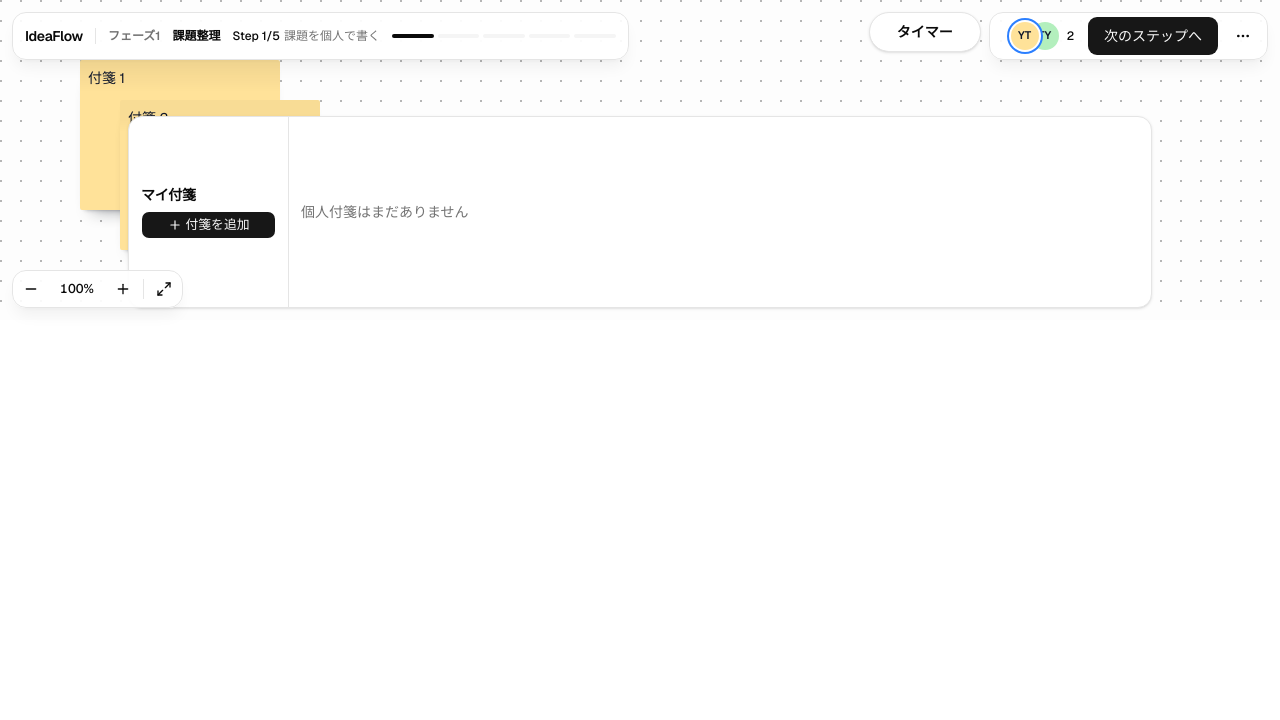
Test case: RoomBoardView › host の招待URLと招待コードはルームメニューから表示する
expect the text "招待URL" is not shown: met
Click the button named "ルームメニューを開く" at (1243, 36), box [1223,16,1263,56]
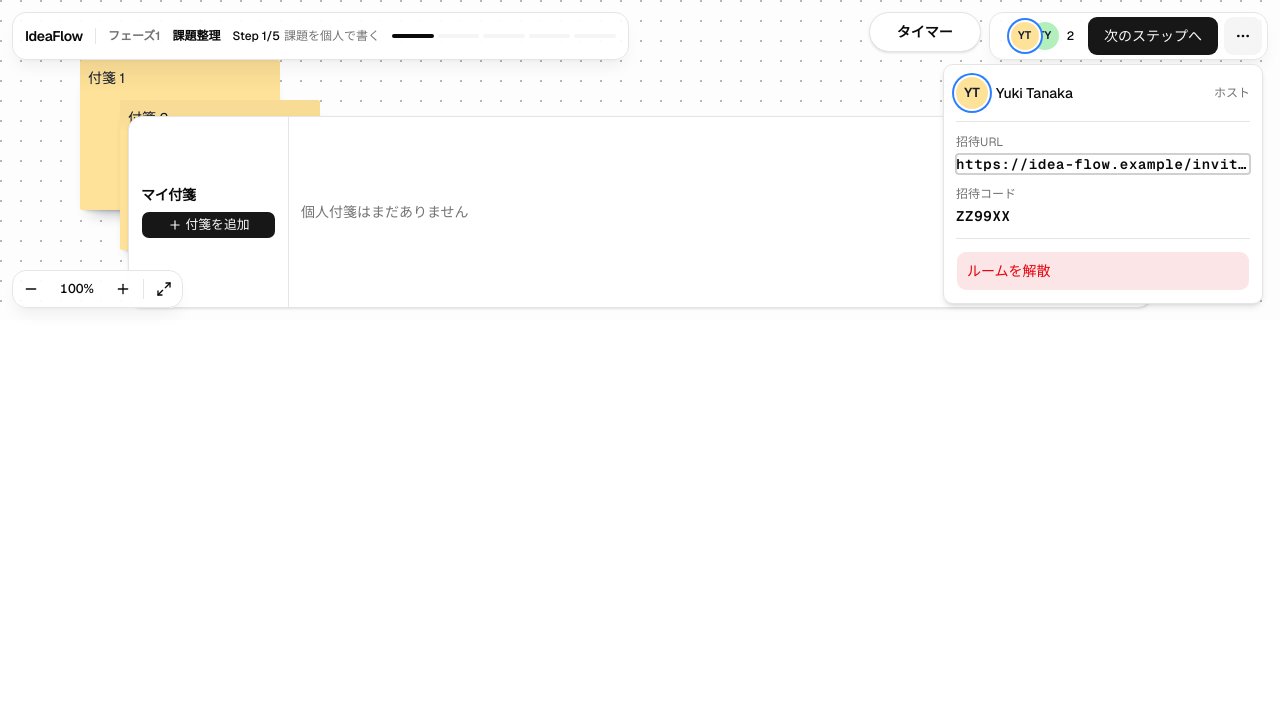
expect the text "招待URL" is shown: met, box [956,134,1003,150]
expect the text "招待コード" is shown: met, box [956,186,1016,202]
expect the button with aria-label "招待URLをコピー" reads "https://idea-flow.example/invite/ZZ99XX": met, box [956,154,1250,174]
